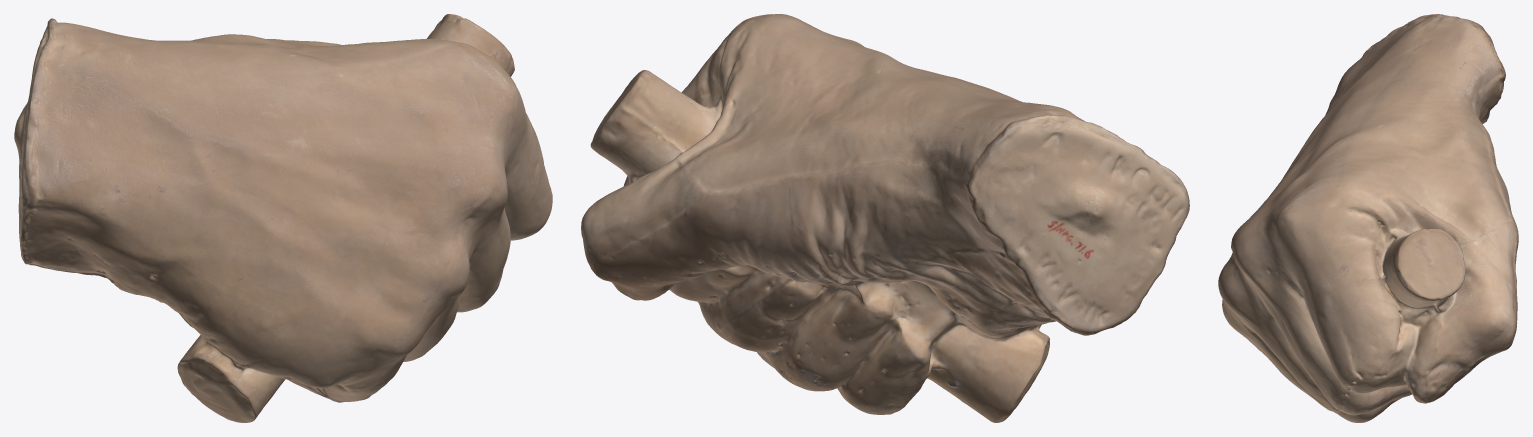
The model's file is npg_71_6_right-hires_unwrapped-150k-4096-high.glb.
3 renders of one model, left to right at view 1: azimuth 30°, elevation 25°; view 2: azimuth 150°, elevation 25°; view 3: azimuth 270°, elevation 25°, orthographic. The views are drawn at different scales.
Size of the model in its own units: 169 by 115 by 103.
1 material, 1 textured.
